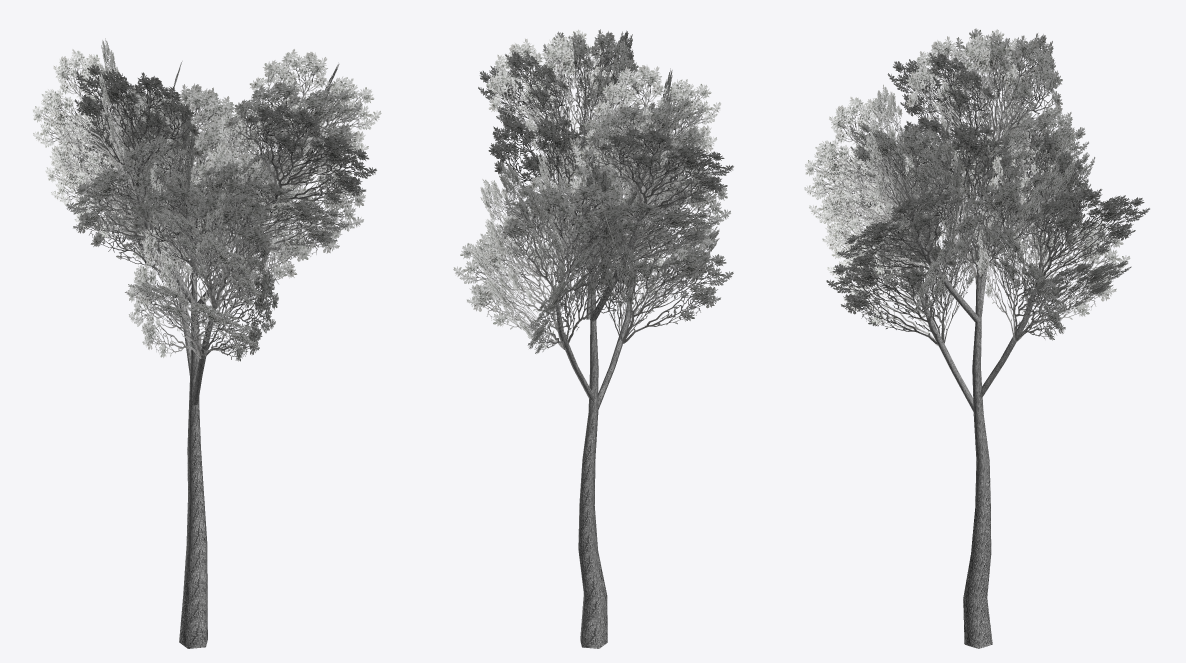
File: winter tree2.FBX
3 renders of one model, left to right at view 1: azimuth 30°, elevation 25°; view 2: azimuth 150°, elevation 25°; view 3: azimuth 270°, elevation 25°, orthographic. The views are drawn at different scales.
Visible parts, largest first — view 1: winter tree2; view 2: winter tree2; view 3: winter tree2.
Part boxes in pixels (x1=…): winter tree2: x1=33, y1=38, x2=381, y2=648; winter tree2: x1=453, y1=29, x2=733, y2=648; winter tree2: x1=804, y1=28, x2=1149, y2=648.
Size of the model in its own units: 49.73 by 84.42 by 49.95.
